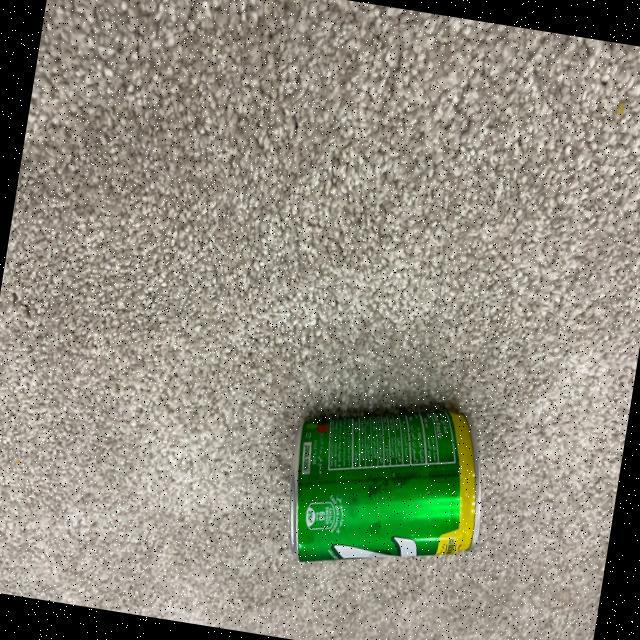debris: (270, 377, 500, 592)
